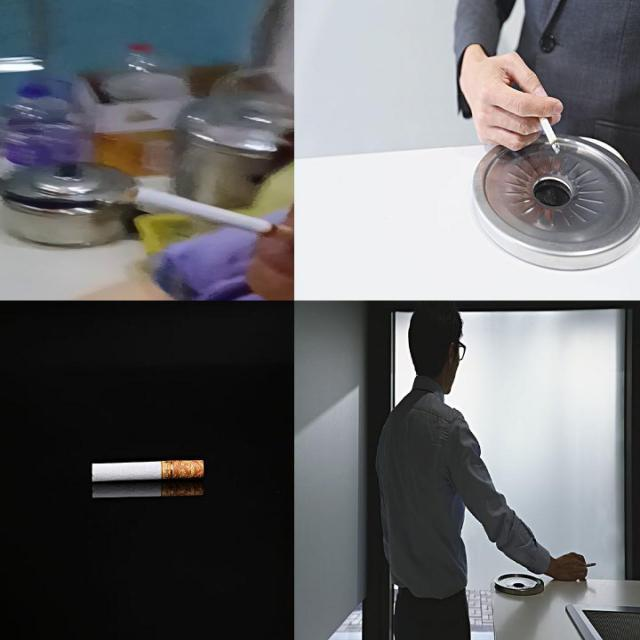smoking: (129, 186, 293, 244), (90, 460, 208, 482), (91, 482, 205, 498), (535, 106, 562, 154), (582, 562, 596, 568)
